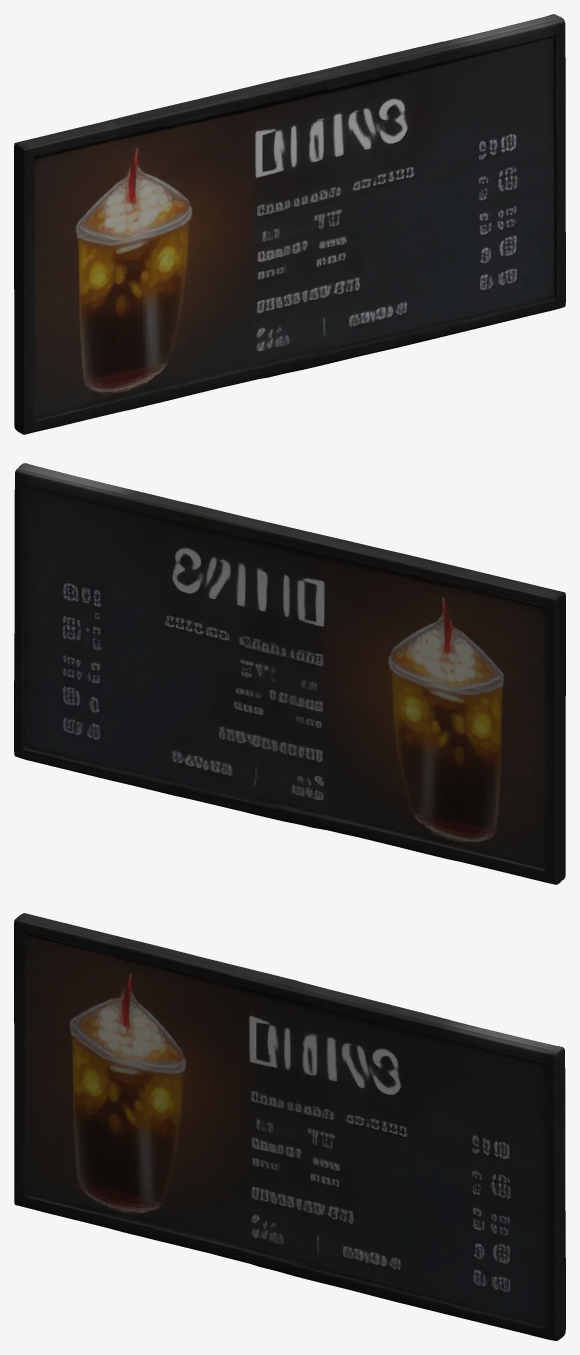
3 renders of one model, top to bottom at view 1: azimuth 30°, elevation 25°; view 2: azimuth 150°, elevation 25°; view 3: azimuth 330°, elevation 25°, orthographic.
Parts seen in each view (by area): view 1: geometry_0; view 2: geometry_0; view 3: geometry_0.
Part boxes in pixels (left/top/right/bottom): geometry_0: left=14, top=14, right=565, bottom=434; geometry_0: left=14, top=463, right=565, bottom=884; geometry_0: left=14, top=913, right=565, bottom=1340.
Size of the model in its own units: 1 by 0.514 by 0.0346.
Materials: 1 (1 with a texture image).
